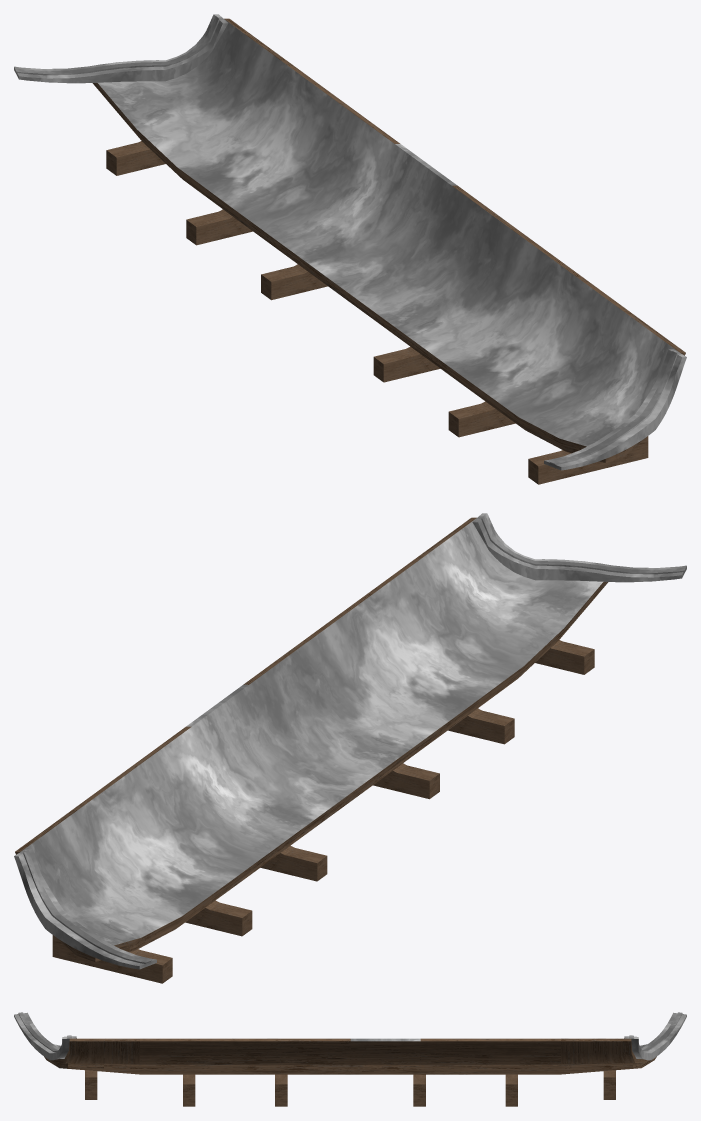
Rendered from SM_small_roof.fbx.
3 views of the same model, one above another, from view 1: azimuth 30°, elevation 25°; view 2: azimuth 150°, elevation 25°; view 3: azimuth 270°, elevation 25° (orthographic). The views are drawn at different scales.
Visible parts, largest first — view 1: SM_small_roof; view 2: SM_small_roof; view 3: SM_small_roof.
Boxes of the visible parts, left/top/right/bottom form: SM_small_roof: left=14, top=14, right=686, bottom=484; SM_small_roof: left=14, top=513, right=686, bottom=983; SM_small_roof: left=14, top=1012, right=686, bottom=1106.
Bounding box in the file's own units: 140 × 752 × 93.
3 materials, 3 textured.
